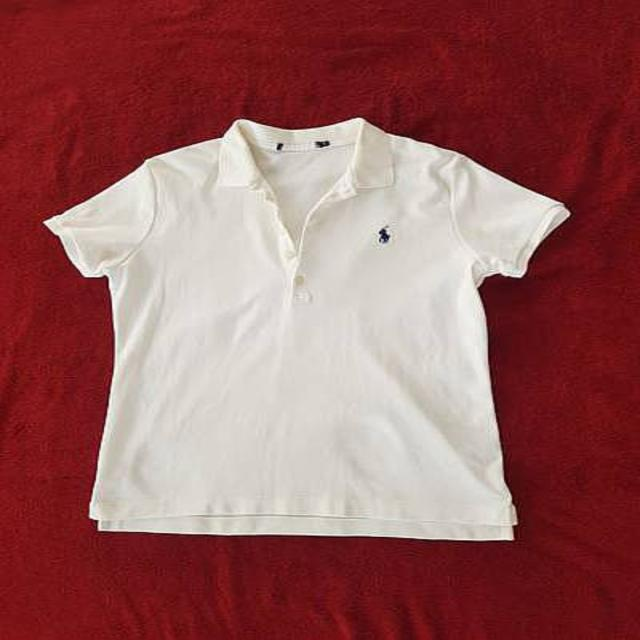T_SHIRT: (43, 109, 587, 552)
